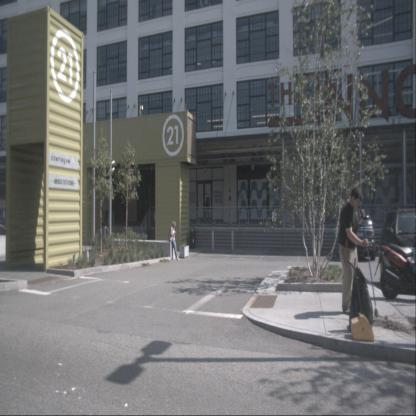human-pedestrian-adult: (338, 188, 378, 318), (170, 221, 180, 261), (204, 192, 210, 225)
vehicle-car: (381, 206, 415, 295), (346, 214, 376, 260)
vehicle-motorcycle: (376, 242, 416, 300)
